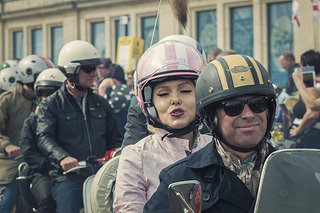helmet: (122, 41, 208, 134), (193, 54, 278, 142)
